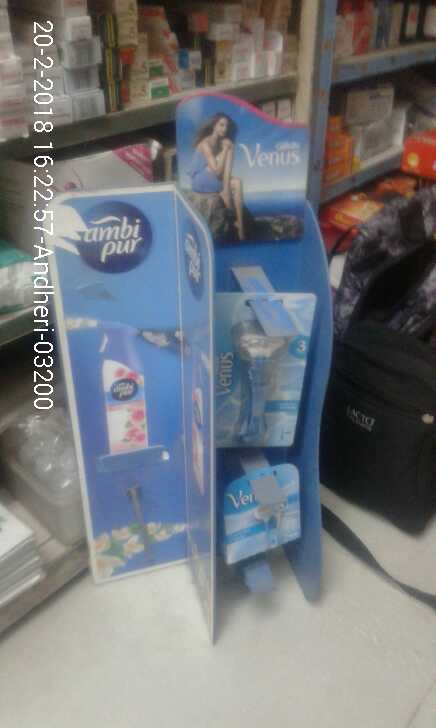beauty: (208, 290, 308, 449), (220, 468, 309, 563)
